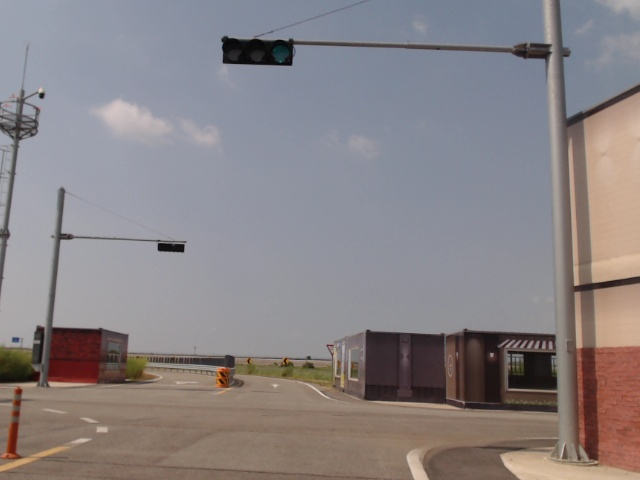green_3: (222, 38, 293, 66)
